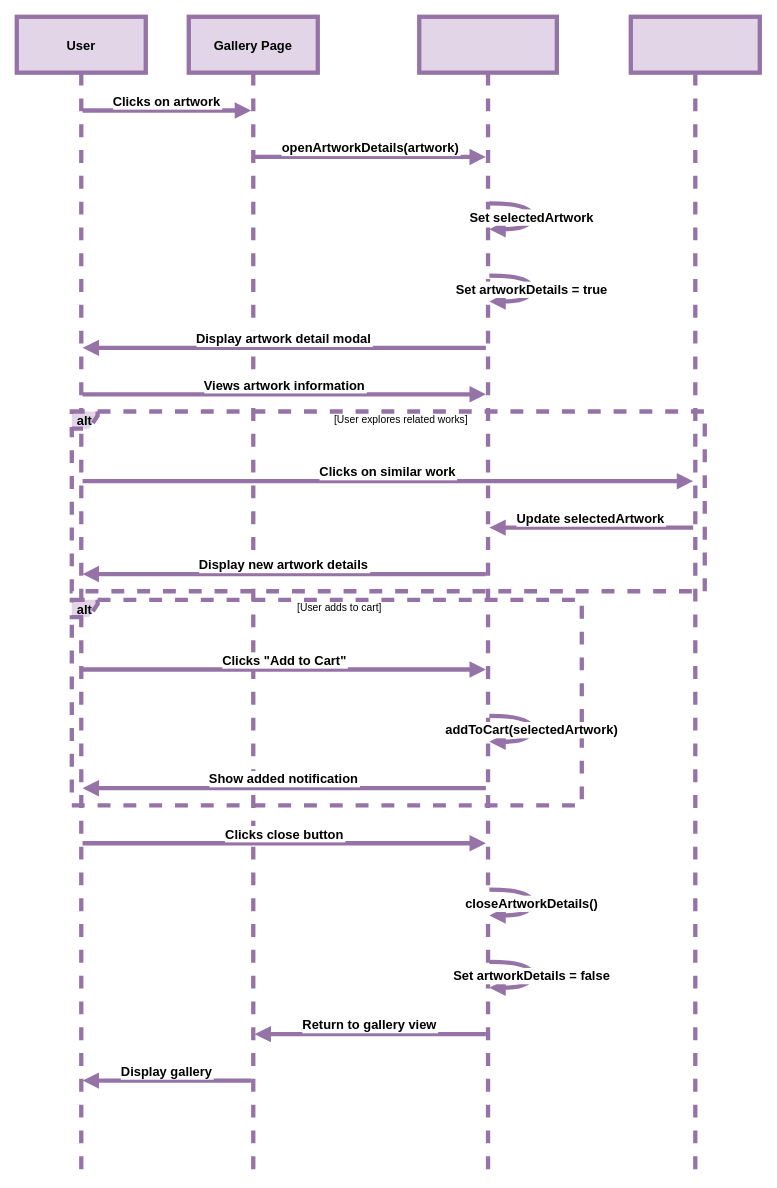
Some shapes in this 777 by 1188 pixel diagram are drawn without their labels. The centre of each missing label's shape, as x and y in pixels:
Artwork Detail View: pixel 488 593
Related Artworks: pixel 695 593
